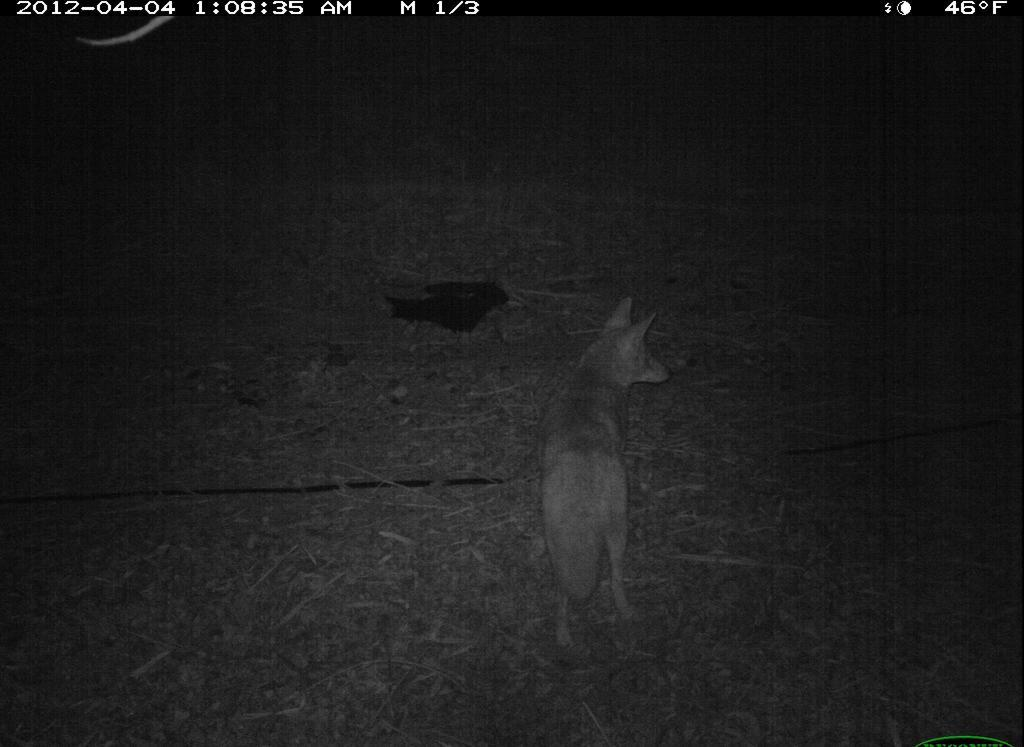coyote: (527, 290, 683, 656)
